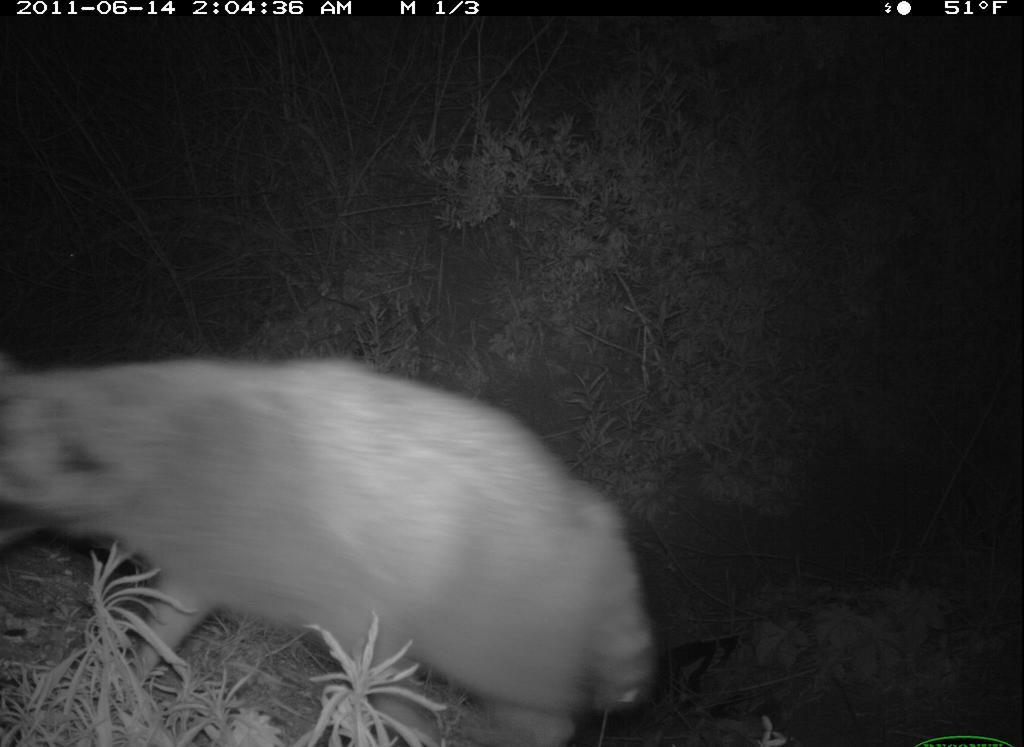raccoon: (6, 349, 660, 742)
